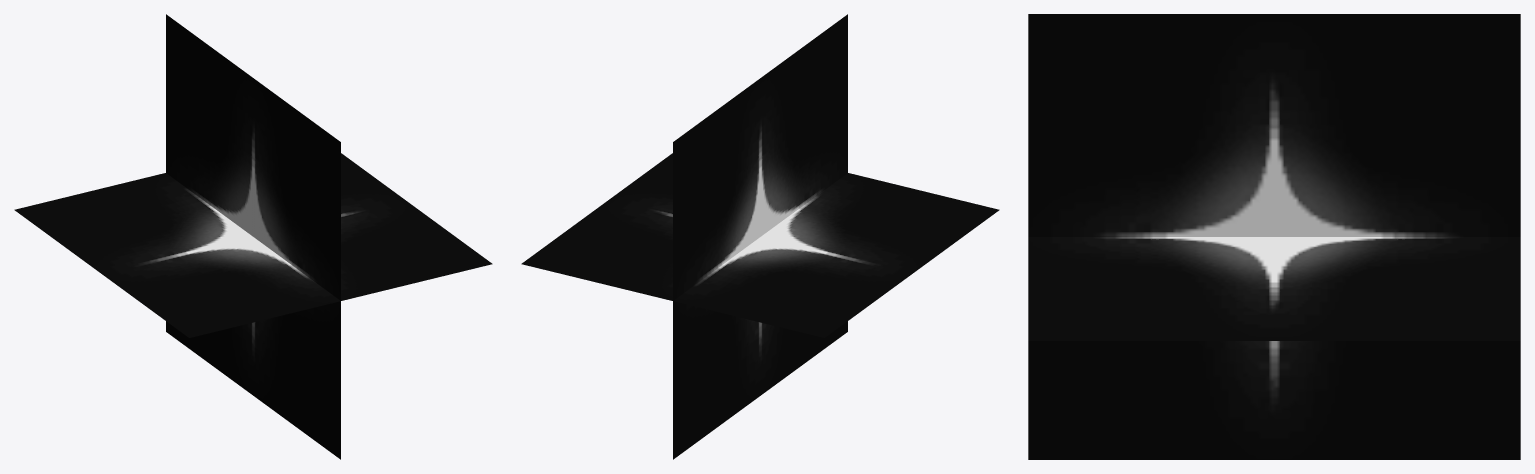
File: shizimianpian009.FBX
The picture shows the model from 3 angles, left to right: view 1: azimuth 30°, elevation 25°; view 2: azimuth 150°, elevation 25°; view 3: azimuth 270°, elevation 25°; orthographic projection. The views are drawn at different scales.
Visible parts, largest first — view 1: Plane002; view 2: Plane002; view 3: Plane002.
Part boxes in pixels (x1,y1,x2,y2): Plane002: (14,14,492,459); Plane002: (521,14,999,459); Plane002: (1028,14,1520,459).
Size of the model in its own units: 30 by 30 by 30.
